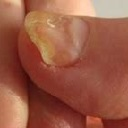Nail Fungal Infection: (29, 13, 72, 62)
